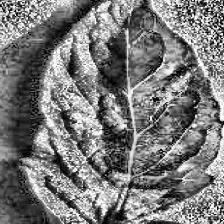spider mites: (21, 0, 223, 224)
